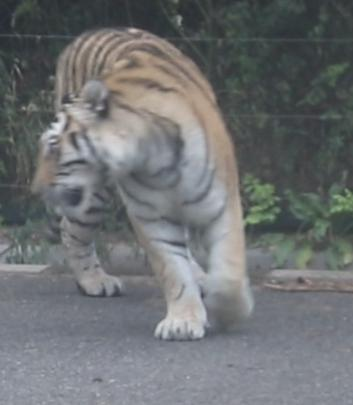tiger: (32, 28, 253, 338)
